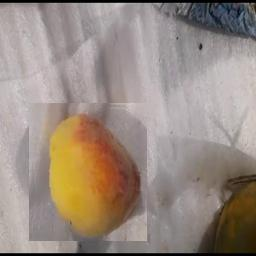Peach Semifresh: (30, 103, 148, 241)
